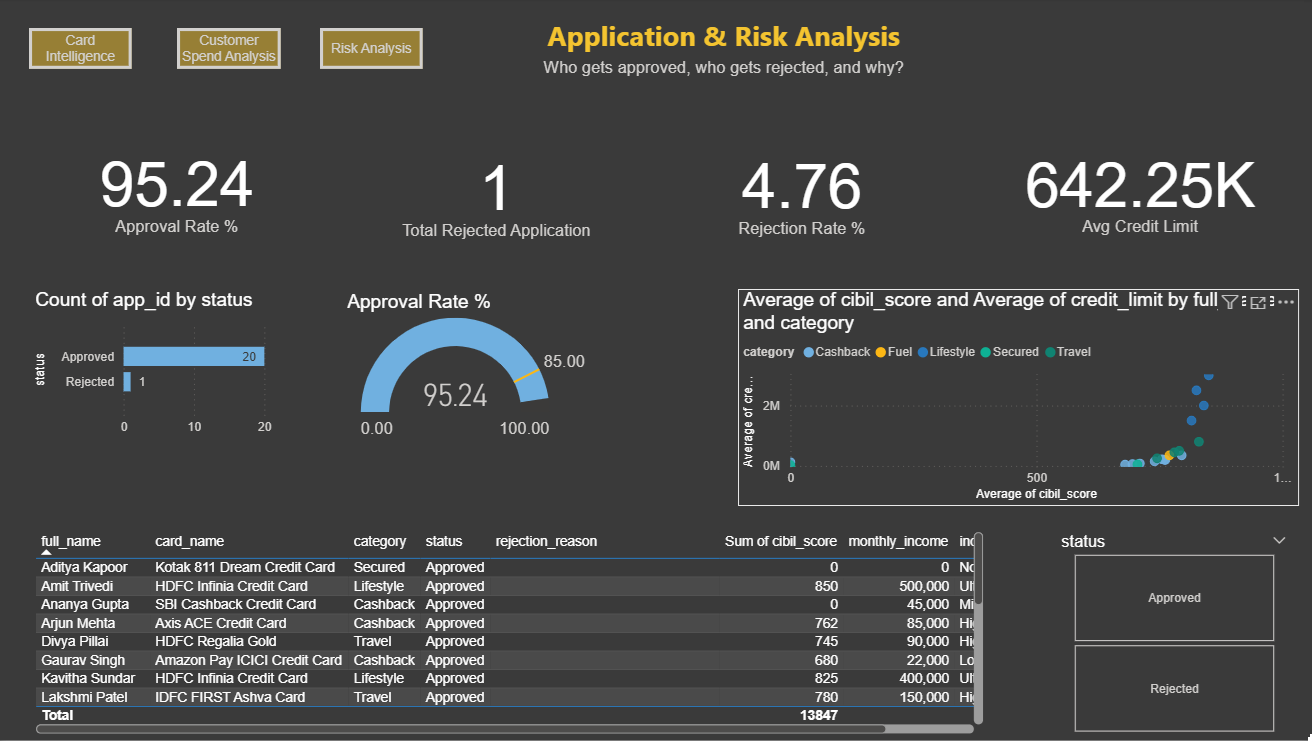

The dashboard page shown, as its layout file describes it:
{"tool":"powerbi","page":{"name":"Rejection & Risk","canvas":[1280,720],"ordinal":2},"visuals":[{"type":"card","fields":{"Values":["_Measures.Approval Rate %"]},"box":[59.3,129.4,231.5,111.9],"z":0},{"type":"card","fields":{"Values":["_Measures.Rejected Applications"]},"box":[367.7,129.4,236.4,119.6],"z":1000},{"type":"card","fields":{"Values":["_Measures.Avg Credit Limit"]},"box":[982.4,129.4,258.9,112.1],"z":2000},{"type":"card","fields":{"Values":["_Measures.Rejection Rate %"]},"box":[657.5,129.4,250.9,115.7],"z":3000},{"type":"clusteredBarChart","fields":{"Category":["applications.status"],"Y":["CountNonNull(applications.app_id)"]},"box":[32.1,283,258.7,149.8],"z":4000},{"type":"gauge","fields":{"Y":["_Measures.Approval Rate %"]},"box":[335.6,285,258.7,149.8],"z":5000},{"type":"scatterChart","fields":{"Y":["Avg(applications.credit_limit)"],"Series":["credit_cards.category"],"X":["Avg(customers.cibil_score)"],"Category":["customers.full_name"]},"box":[720.7,283,545.7,211.1],"z":6000},{"type":"tableEx","fields":{"Values":["customers.full_name","credit_cards.card_name","credit_cards.category","applications.status","applications.rejection_reason","Sum(customers.cibil_score)","customers.monthly_income","customers.income_segment"]},"box":[32.1,514.3,932.3,205.9],"z":7000},{"type":"slicer","fields":{"Values":["applications.status"]},"box":[1022.3,514.3,244.2,205.9],"z":8000},{"type":"textbox","title":"Application & Risk Analysis","box":[413.8,17.3,587,64.2],"z":8001},{"type":"actionButton","box":[31.6,29.6,99.9,39.7],"z":8002},{"type":"actionButton","box":[175.3,29.6,100.9,39.7],"z":8003},{"type":"actionButton","box":[313.9,29.6,99.9,39.7],"z":8004}]}

Visuals, with their boxes in screenshot pixels (x1, y1, x2, y2), scaled from the page's 1280x720 canvas onto the 1312x741 screenshot:
card - _Measures.Approval Rate %: Rect(61, 133, 298, 248)
card - _Measures.Rejected Applications: Rect(377, 133, 619, 256)
card - _Measures.Avg Credit Limit: Rect(1007, 133, 1272, 249)
card - _Measures.Rejection Rate %: Rect(674, 133, 931, 252)
clusteredBarChart - applications.status x CountNonNull(applications.app_id): Rect(33, 291, 298, 445)
gauge - _Measures.Approval Rate %: Rect(344, 293, 609, 447)
scatterChart - Avg(applications.credit_limit) x credit_cards.category: Rect(739, 291, 1298, 509)
tableEx - customers.full_name x credit_cards.card_name: Rect(33, 529, 989, 740)
slicer - applications.status: Rect(1048, 529, 1298, 740)
"Application & Risk Analysis" textbox: Rect(424, 18, 1026, 84)
actionButton: Rect(32, 30, 135, 71)
actionButton: Rect(180, 30, 283, 71)
actionButton: Rect(322, 30, 424, 71)
